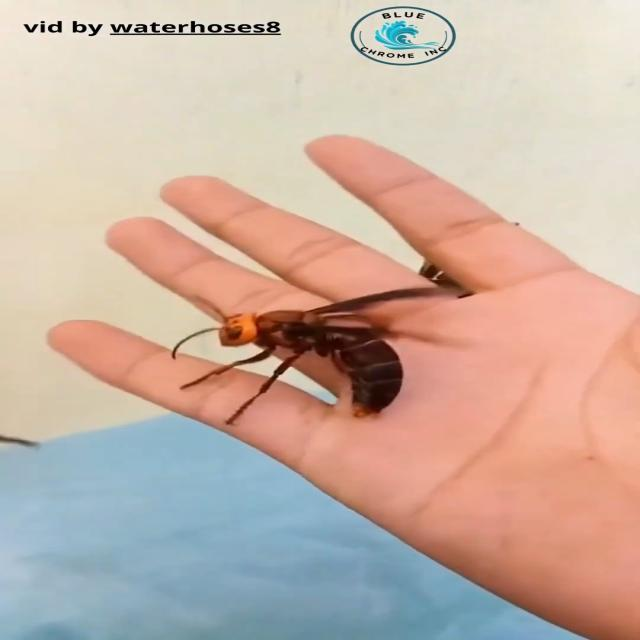Hornets: (168, 288, 470, 428)
